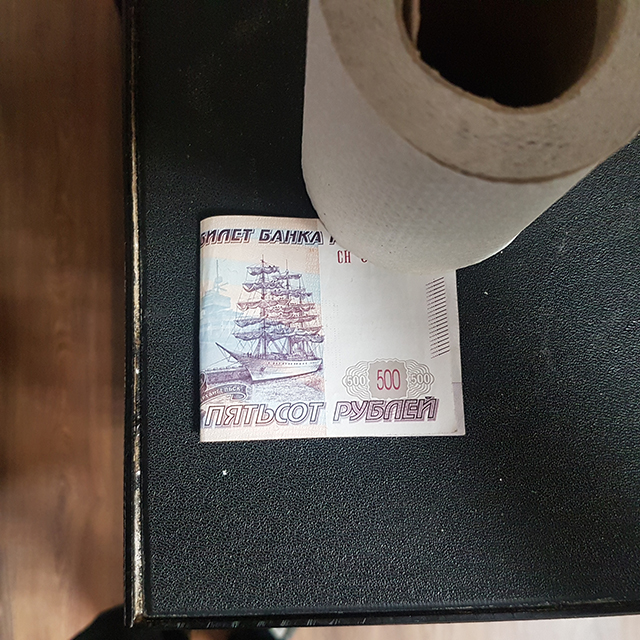banknotes: (193, 214, 470, 443)
